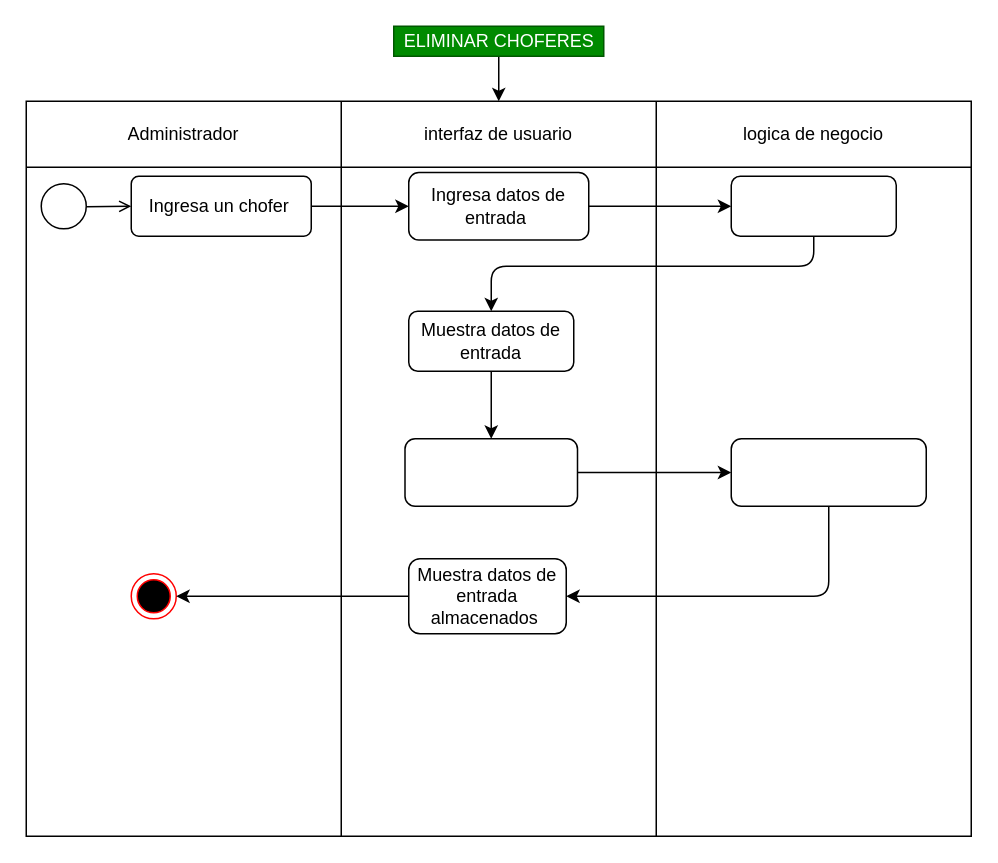
The diagram is 998 pixels wide and 863 high, and some of its shapes have lost their labels. Here are the shapes that lost their labels. From the top down, the centre of each, then its label:
At (x=813, y=205): "Consulta datos de entrada".
At (x=491, y=471): "Selecciona eliminar y confirma datos de entrada".
At (x=828, y=471): "Elimina datos de entrada seleccionado".
